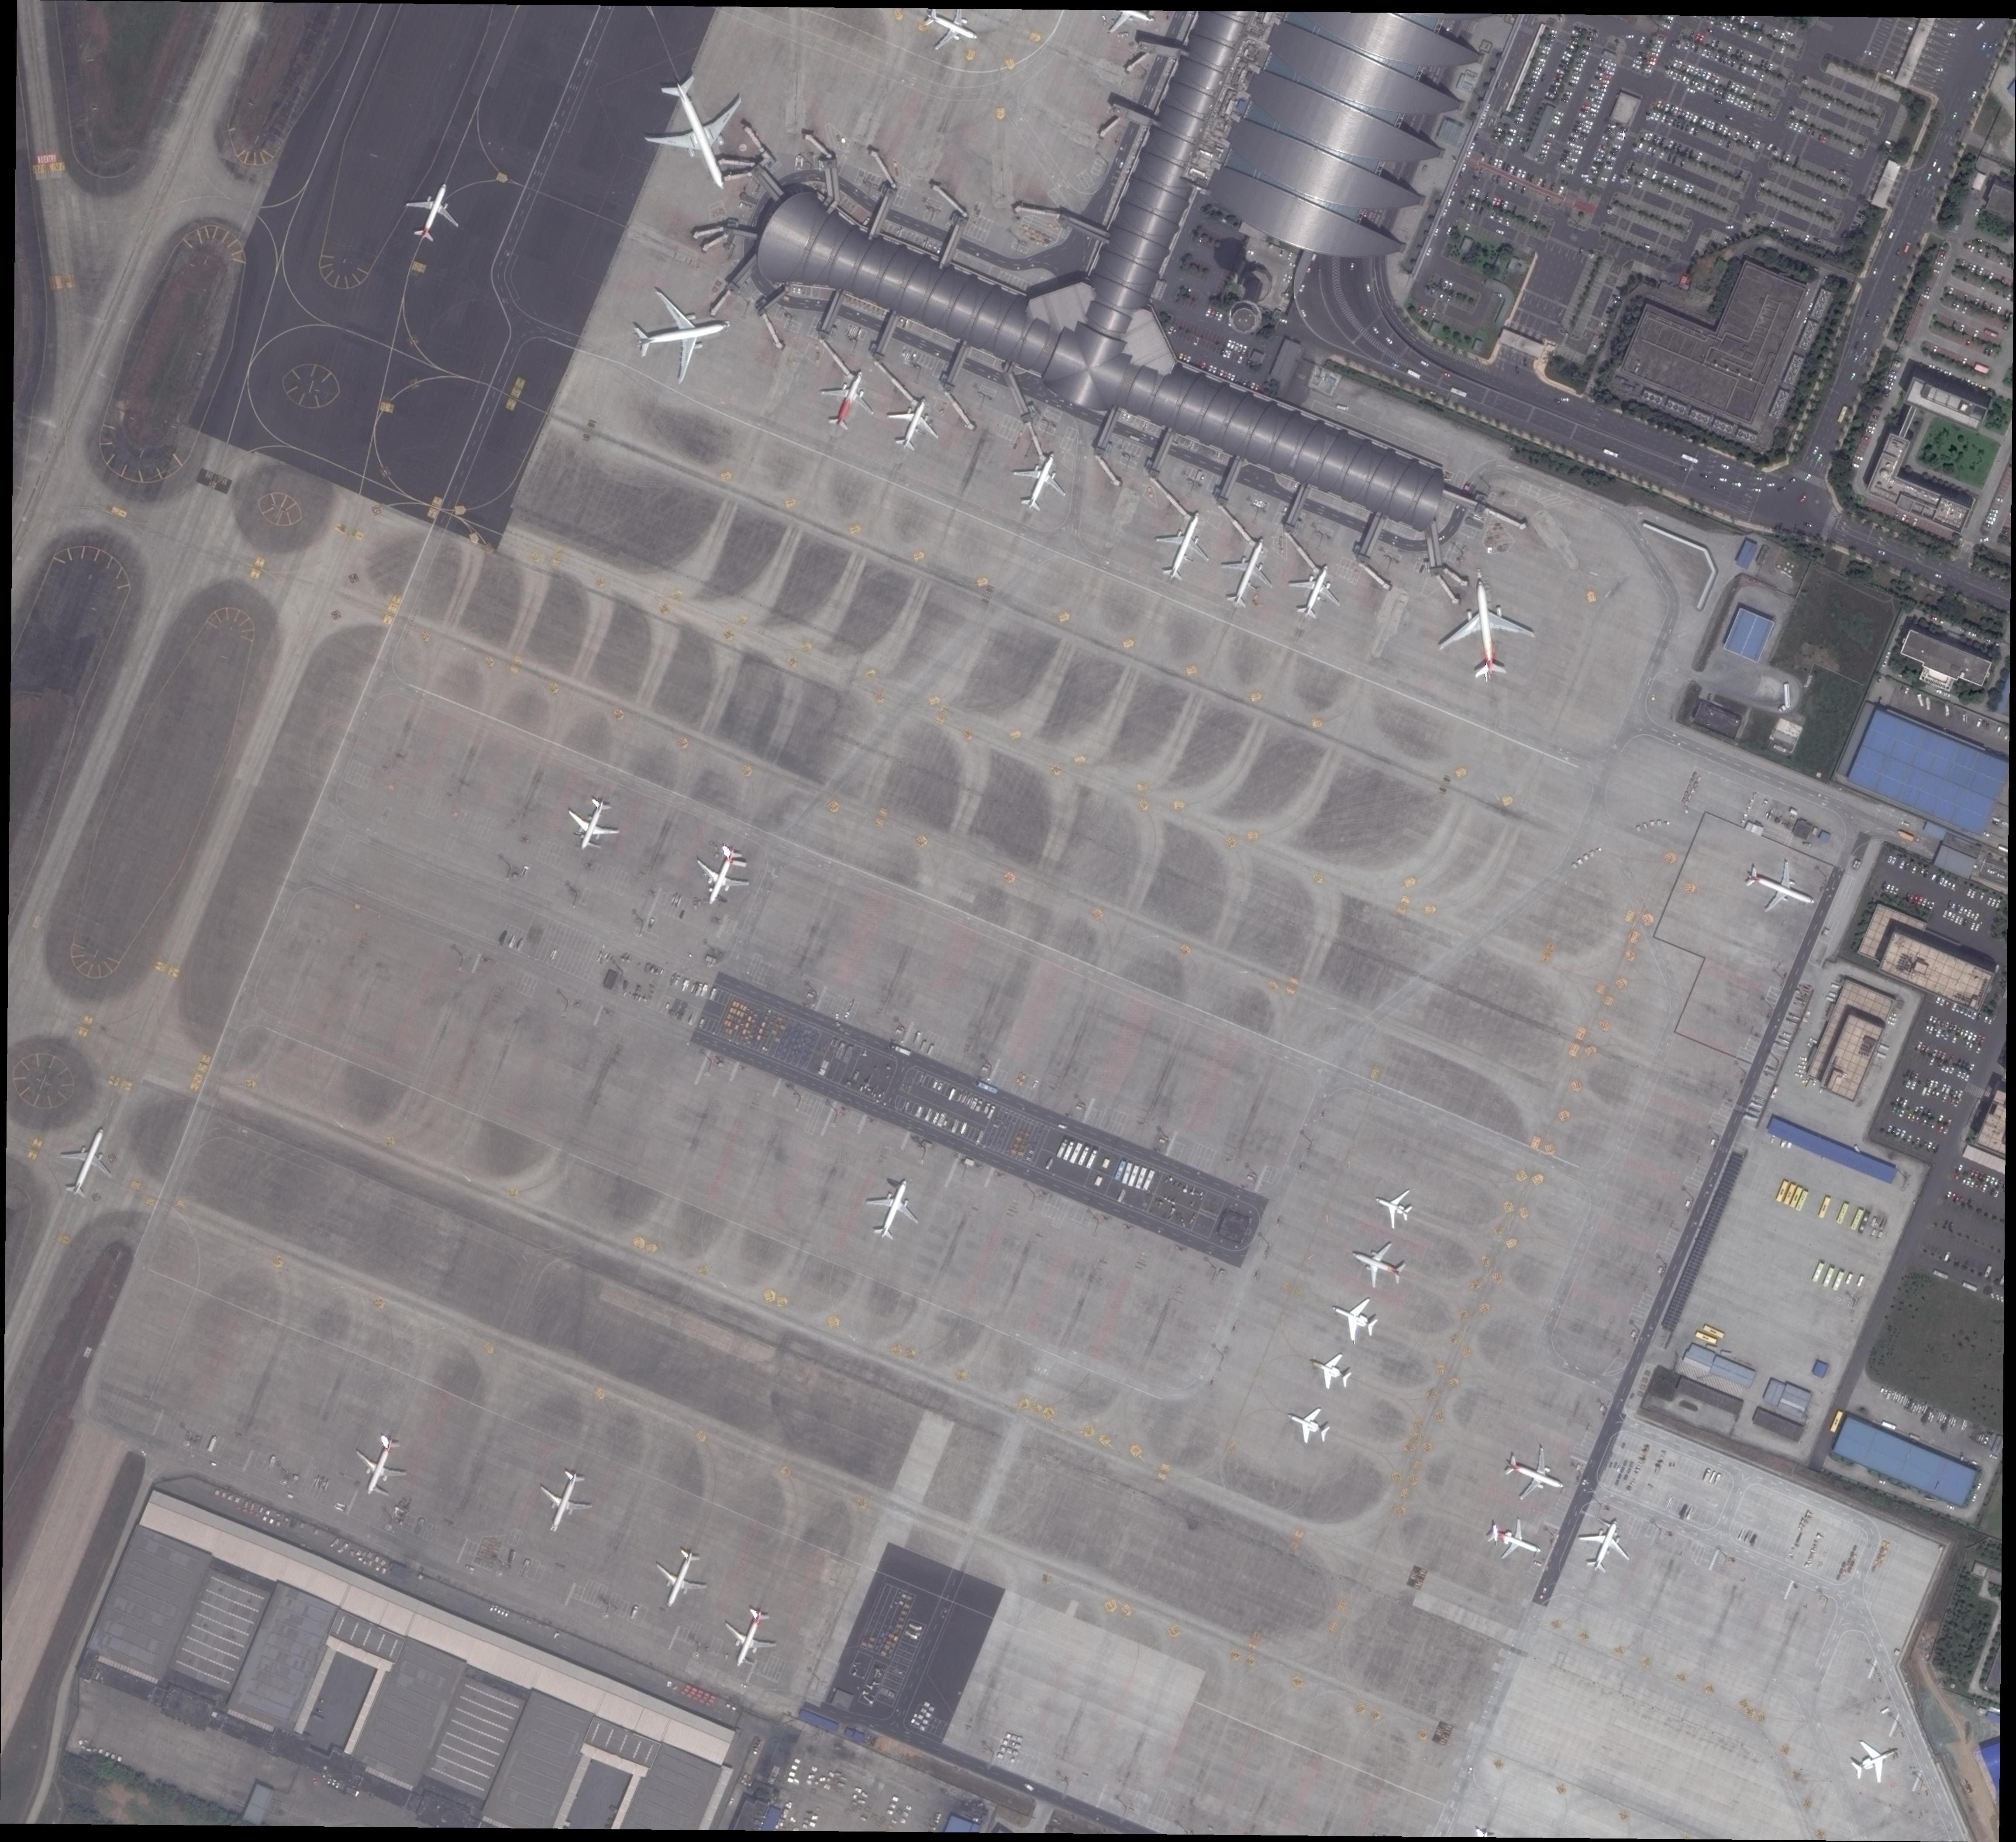plane: (627, 58, 766, 202), (1429, 574, 1542, 683), (620, 286, 732, 383), (1138, 502, 1224, 594), (37, 1120, 128, 1206), (522, 1456, 606, 1545), (1732, 846, 1821, 931), (386, 172, 474, 255), (1489, 1433, 1573, 1515), (996, 439, 1078, 522), (853, 1169, 934, 1252), (639, 1538, 724, 1617), (1208, 529, 1285, 615), (709, 1596, 790, 1677), (804, 360, 885, 441), (1271, 553, 1354, 632), (339, 1426, 421, 1505), (683, 838, 762, 915), (555, 787, 632, 860), (878, 383, 950, 460), (1479, 1505, 1549, 1573), (1322, 1284, 1389, 1354), (1842, 1730, 1907, 1796), (1347, 1234, 1412, 1299), (910, 9, 987, 60), (1301, 1342, 1364, 1401), (1277, 1396, 1340, 1456), (1366, 1175, 1424, 1240), (1577, 1514, 1631, 1575)
